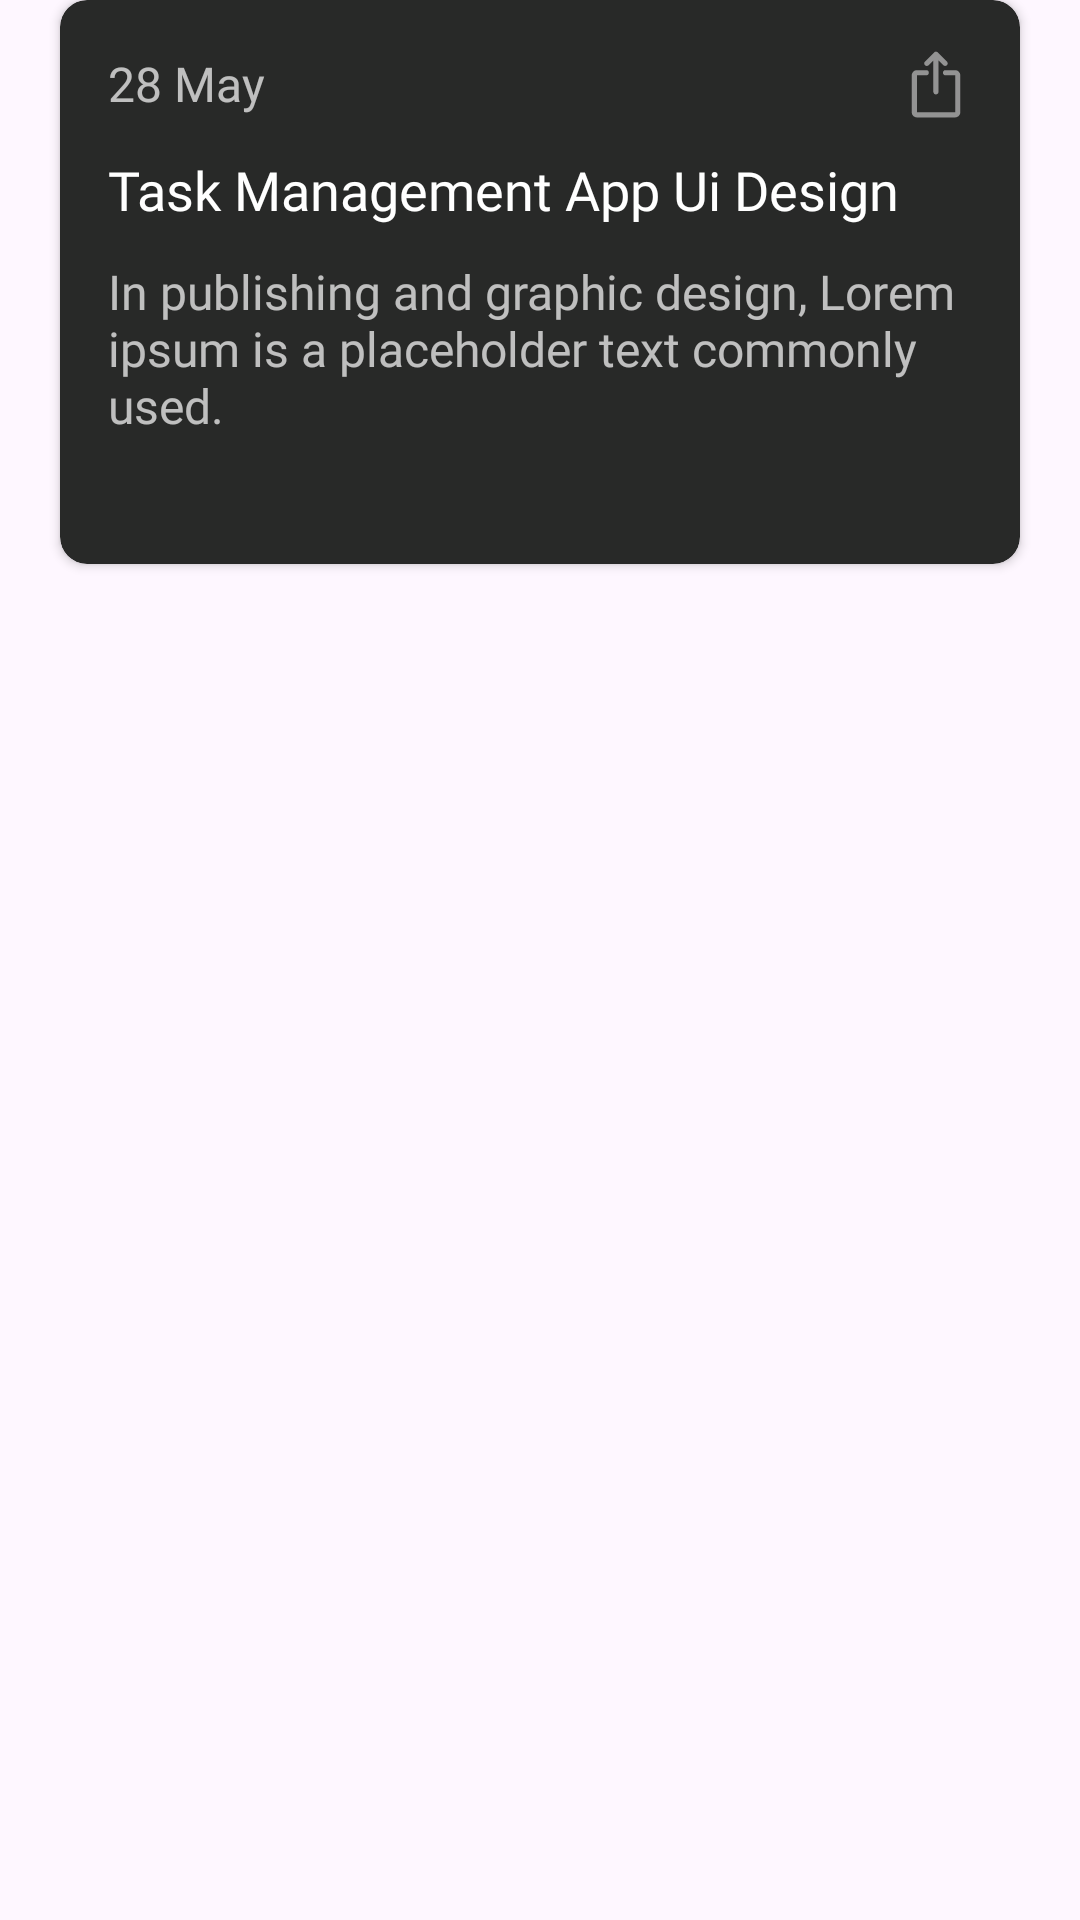

Icon bounding boxes for this 1080px×1920px phone screenshot, format (x1, y1, x2, y2):
notes share: (911, 51, 961, 118)
